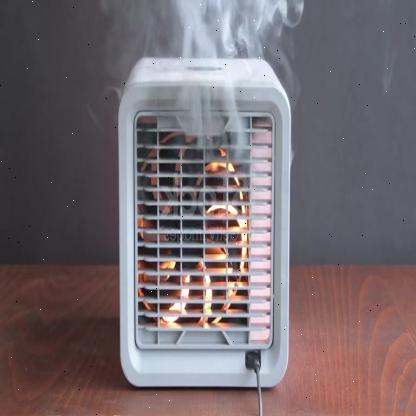smoke: (90, 0, 311, 170)
